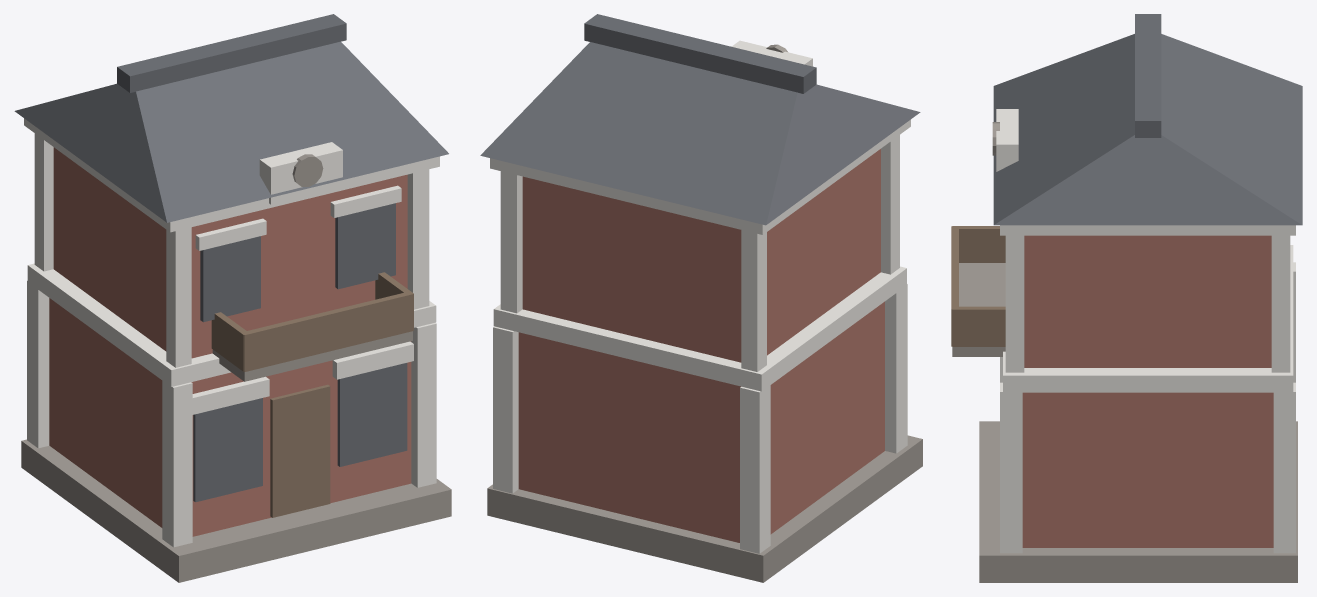
Rendered from commercial_l3_giyofu.glb.
The picture shows the model from 3 angles, left to right: view 1: azimuth 30°, elevation 25°; view 2: azimuth 150°, elevation 25°; view 3: azimuth 270°, elevation 25°; orthographic projection.
Visible parts, largest first — view 1: Giyofu_Roof, Upper_Brick, Ground_Brick, Stone_Base, Front_Door, Balcony_Rail_F, Giyofu_Ridge, Glass_Win_R, Glass_Win_L, Belt_Cornice, Quoin_G_-0.76_-0.68, Upper_Win_L (+16 smaller); view 2: Ground_Brick, Giyofu_Roof, Upper_Brick, Stone_Base, Belt_Cornice, Giyofu_Ridge, Quoin_G_-0.76_0.78, Quoin_G_0.76_0.78, Roof_Cornice, Quoin_G_-0.76_-0.68, Quoin_U_-0.74_0.76, Quoin_U_0.74_0.76 (+2 smaller); view 3: Giyofu_Roof, Ground_Brick, Upper_Brick, Stone_Base, Belt_Cornice, Quoin_G_0.76_-0.68, Quoin_G_0.76_0.78, Giyofu_Ridge, Roof_Cornice, Quoin_U_0.74_0.76, Quoin_U_0.74_-0.66, Balcony_Slab (+4 smaller).
Part boxes in pixels (box(x1,y1,x2,y2)): Giyofu_Roof: box(14, 41, 448, 222); Upper_Brick: box(53, 147, 407, 358); Ground_Brick: box(49, 298, 411, 536); Stone_Base: box(21, 439, 451, 582); Front_Door: box(270, 384, 330, 517); Balcony_Rail_F: box(243, 291, 413, 371); Giyofu_Ridge: box(117, 14, 346, 92); Glass_Win_R: box(337, 363, 407, 466); Glass_Win_L: box(193, 398, 262, 502); Belt_Cornice: box(27, 263, 436, 386); Quoin_G_-0.76_-0.68: box(162, 381, 192, 547); Upper_Win_L: box(200, 236, 260, 322); Ground_Brick: box(518, 301, 884, 542); Giyofu_Roof: box(480, 42, 920, 225); Upper_Brick: box(522, 149, 880, 362); Stone_Base: box(487, 435, 922, 582); Belt_Cornice: box(493, 266, 906, 391); Giyofu_Ridge: box(584, 14, 816, 93); Quoin_G_-0.76_0.78: box(740, 385, 770, 553); Quoin_G_0.76_0.78: box(493, 326, 518, 493); Roof_Cornice: box(490, 119, 910, 234); Quoin_G_-0.76_-0.68: box(885, 284, 907, 453); Quoin_U_-0.74_0.76: box(741, 230, 766, 371); Quoin_U_0.74_0.76: box(500, 171, 522, 313); Giyofu_Roof: box(993, 34, 1302, 225); Ground_Brick: box(1022, 392, 1273, 547); Upper_Brick: box(1024, 235, 1271, 367); Stone_Base: box(979, 421, 1297, 582); Belt_Cornice: box(1003, 245, 1293, 392); Quoin_G_0.76_-0.68: box(1000, 382, 1022, 553); Quoin_G_0.76_0.78: box(1273, 382, 1295, 553); Giyofu_Ridge: box(1135, 14, 1161, 137); Roof_Cornice: box(1000, 225, 1295, 235); Quoin_U_0.74_0.76: box(1271, 235, 1290, 372); Quoin_U_0.74_-0.66: box(1005, 235, 1024, 372); Balcony_Slab: box(952, 263, 1005, 356).
Bounding box in the file's own units: 1.76 × 2.64 × 1.87.
